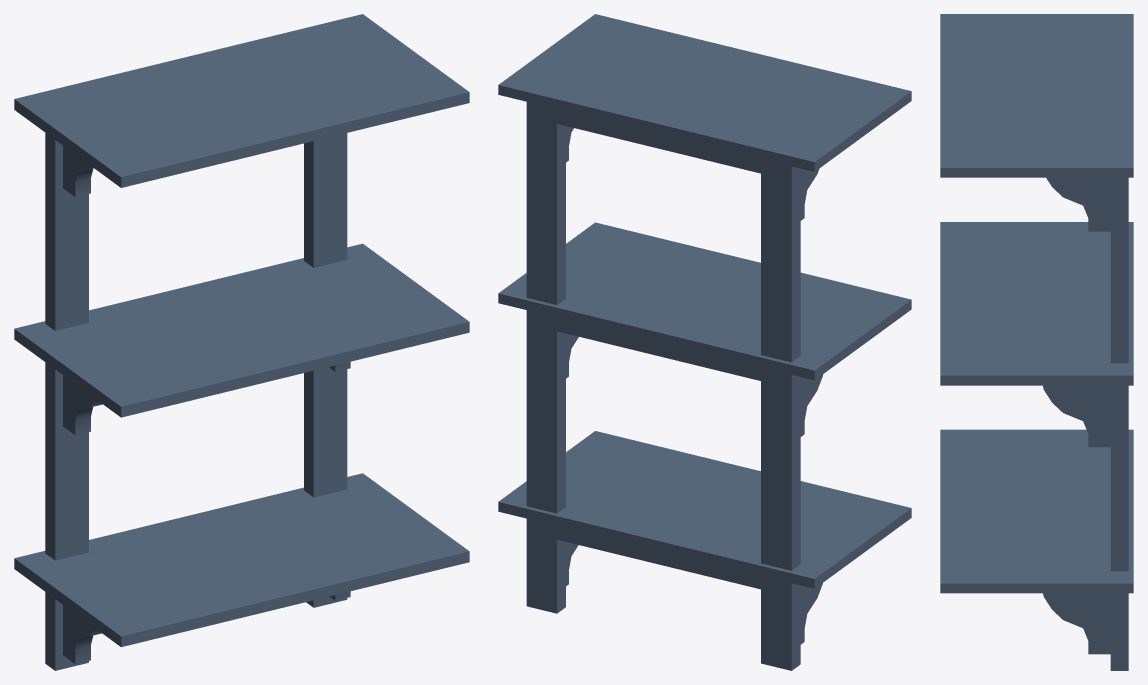
The model's file is WallShelf_03.fbx.
The picture shows the model from 3 angles, left to right: view 1: azimuth 30°, elevation 25°; view 2: azimuth 150°, elevation 25°; view 3: azimuth 270°, elevation 25°; orthographic projection. The views are drawn at different scales.
Visible parts, largest first — view 1: WallShelf_03; view 2: WallShelf_03; view 3: WallShelf_03.
Part boxes in pixels (bbox=[...]): WallShelf_03: bbox=[14, 14, 469, 670]; WallShelf_03: bbox=[498, 14, 911, 670]; WallShelf_03: bbox=[940, 14, 1133, 670].
Size of the model in its own units: 0.5359 by 0.8368 by 0.2846.
